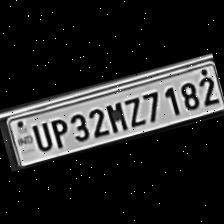1: (156, 83, 182, 119)
2: (84, 102, 110, 139), (194, 70, 220, 107)
3: (65, 108, 92, 142)
7: (137, 86, 164, 124)
8: (174, 76, 202, 113)
M: (101, 97, 128, 134)
P: (44, 113, 72, 150)
U: (27, 118, 52, 153)
Z: (120, 92, 146, 128)
